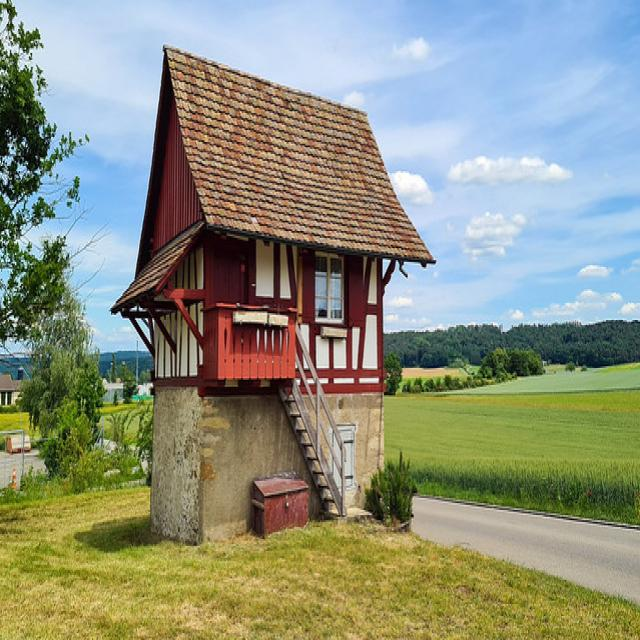Normal_building: (109, 38, 438, 556)
